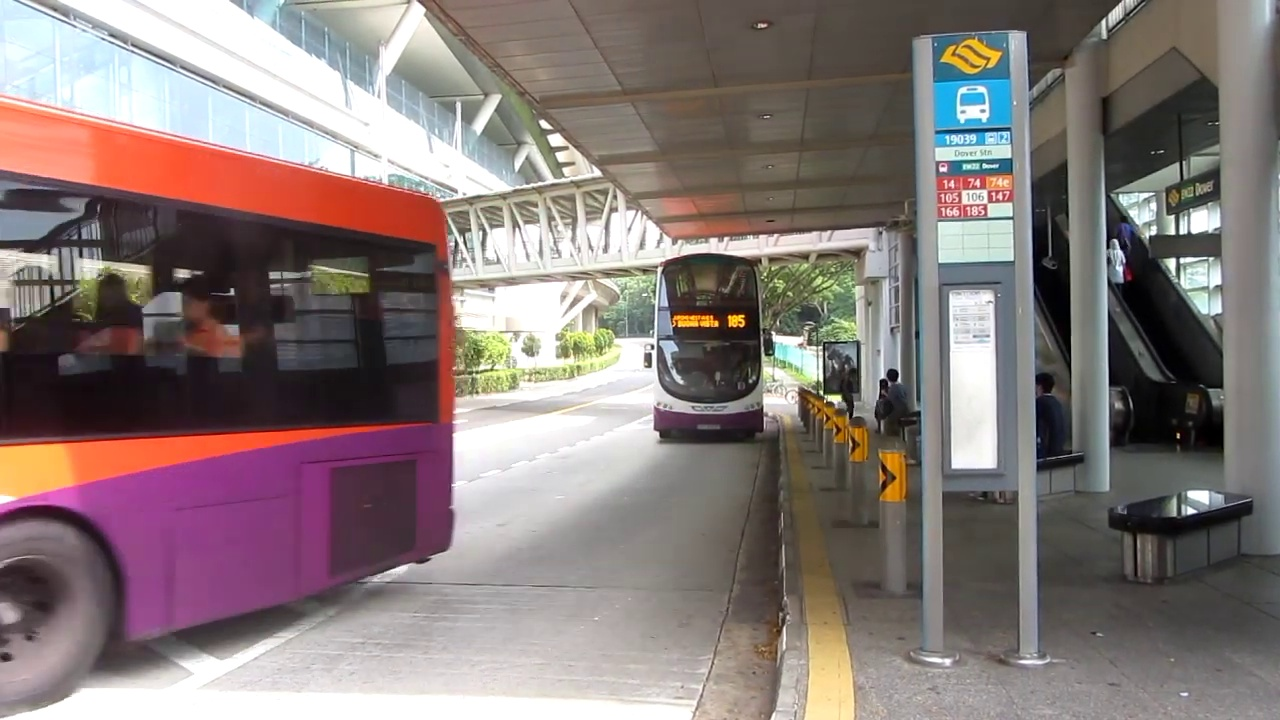bus panel: (669, 312, 748, 330)
